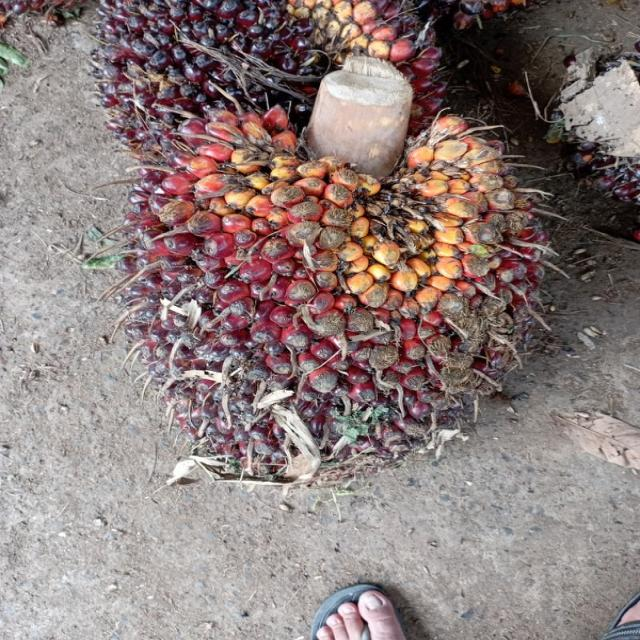fraksi 1: (106, 80, 588, 503)
